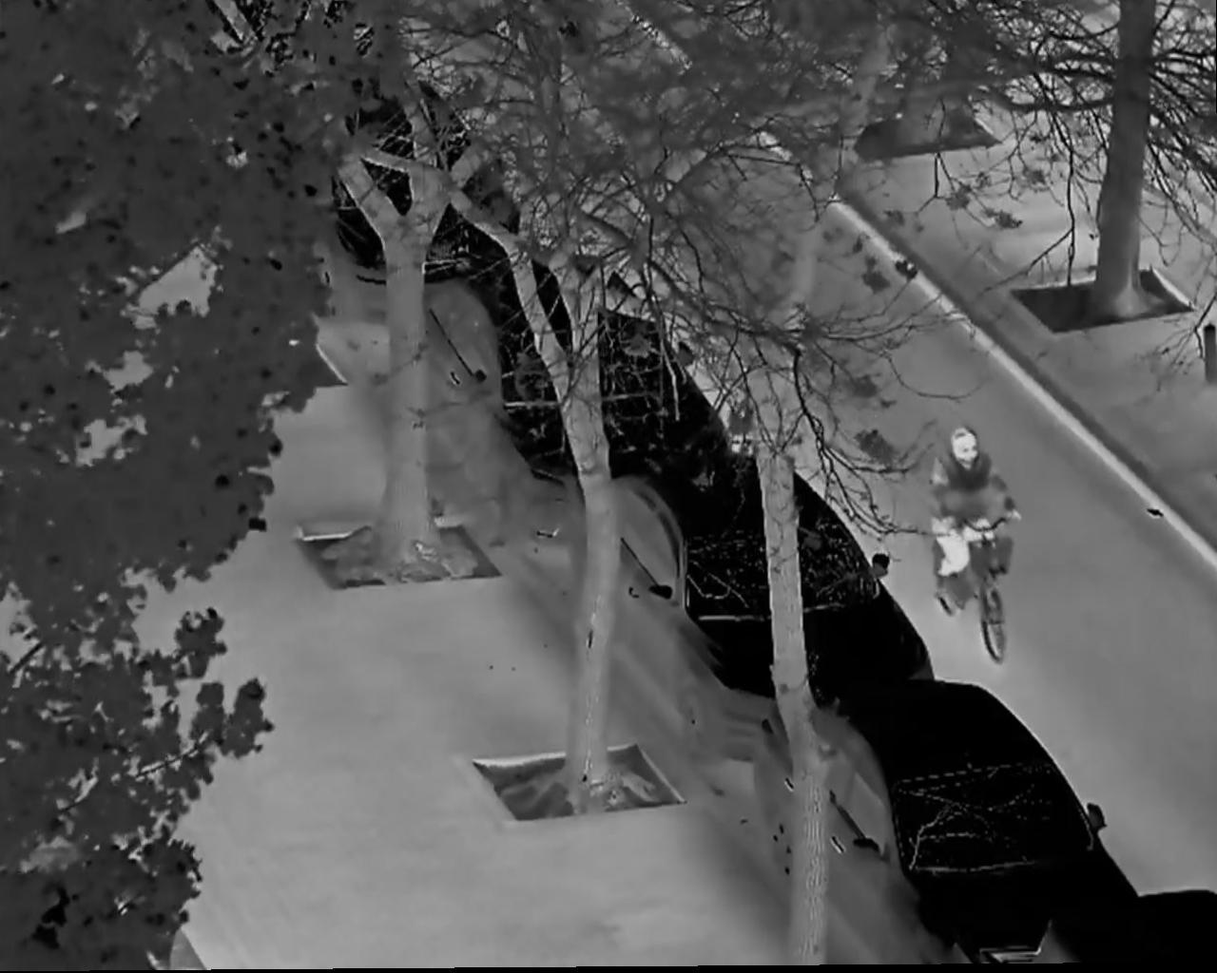person: (934, 429, 1020, 610)
